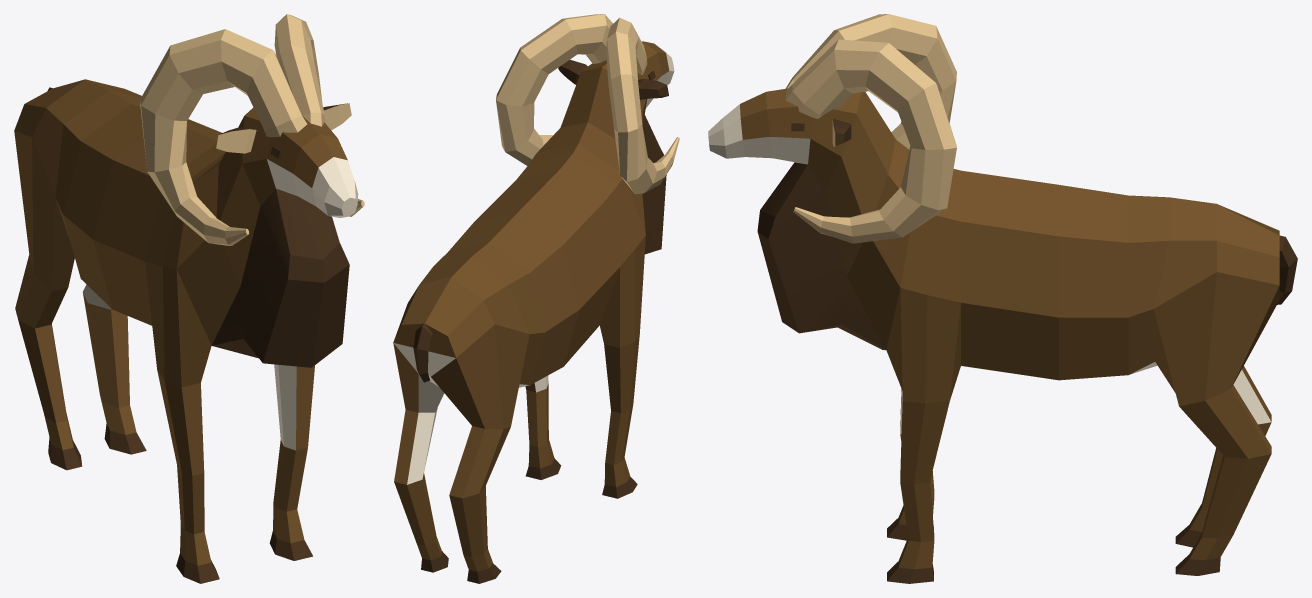
The model's file is Mesh_Ram.obj.
3 views of the same model, side by side, from view 1: azimuth 30°, elevation 25°; view 2: azimuth 150°, elevation 25°; view 3: azimuth 270°, elevation 25° (orthographic). The views are drawn at different scales.
Visible parts, largest first — view 1: Geo_Ram; view 2: Geo_Ram; view 3: Geo_Ram.
Part boxes in pixels (left/top/right/bottom): Geo_Ram: left=14, top=14, right=364, bottom=583; Geo_Ram: left=393, top=14, right=679, bottom=583; Geo_Ram: left=708, top=14, right=1297, bottom=583.
Bounding box in the file's own units: 38.71 × 118 × 119.
Materials: 1 (1 with a texture image).
